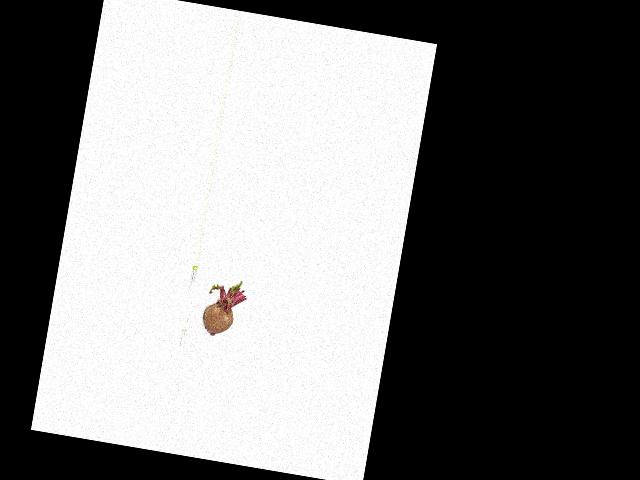beet: (200, 276, 249, 340)
